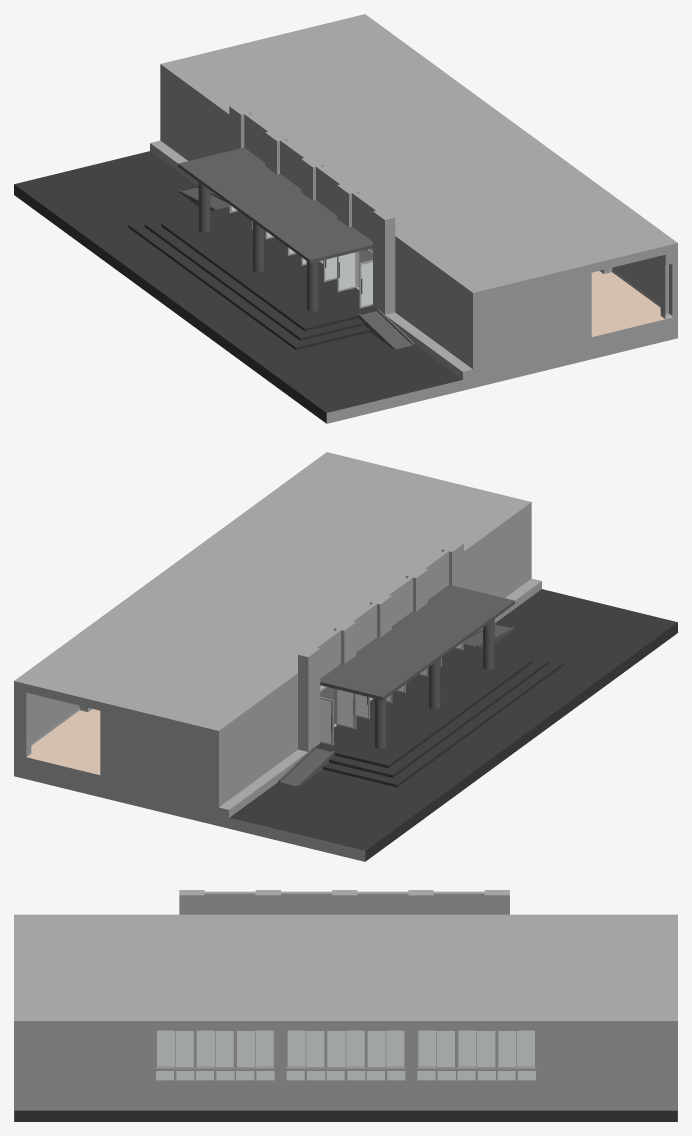
The picture shows the model from 3 angles, top to bottom: view 1: azimuth 30°, elevation 25°; view 2: azimuth 150°, elevation 25°; view 3: azimuth 270°, elevation 25°; orthographic projection. The views are drawn at different scales.
Parts seen in each view (by area): view 1: entrance_558, entrance_490, entrance_552, entrance_492, entrance_523, entrance_556, entrance_554, entrance_6, entrance_548, entrance_526, entrance_521, entrance_528 (+8 smaller); view 2: entrance_558, entrance_490, entrance_550, entrance_492, entrance_523, entrance_554, entrance_556, entrance_6, entrance_546, entrance_526, entrance_519, entrance_534 (+8 smaller); view 3: entrance_558, entrance_526, entrance_490, entrance_969, entrance_965, entrance_967, entrance_528, entrance_532, entrance_534, entrance_530, entrance_1050, entrance_1002 (+21 smaller).
Boxes of the visible parts, x1,y1,x2,y2 form: entrance_558: (160, 14, 677, 300); entrance_490: (14, 151, 462, 423); entrance_552: (326, 243, 677, 423); entrance_492: (128, 207, 376, 350); entrance_523: (178, 147, 372, 263); entrance_556: (385, 245, 472, 379); entrance_554: (150, 73, 229, 191); entrance_6: (591, 271, 672, 336); entrance_548: (373, 209, 395, 314); entrance_526: (602, 254, 672, 318); entrance_521: (358, 309, 414, 349); entrance_528: (352, 192, 379, 248); entrance_558: (14, 452, 531, 738); entrance_490: (229, 589, 677, 861); entrance_550: (14, 681, 365, 861); entrance_492: (316, 644, 564, 787); entrance_523: (320, 584, 514, 700); entrance_554: (219, 682, 307, 817); entrance_556: (464, 511, 541, 628); entrance_6: (27, 709, 100, 774); entrance_546: (298, 646, 320, 751); entrance_526: (26, 692, 89, 754); entrance_519: (278, 746, 334, 786); entrance_534: (313, 629, 340, 685); entrance_558: (14, 914, 677, 1029); entrance_526: (14, 1030, 677, 1110); entrance_490: (14, 1110, 677, 1121); entrance_969: (285, 1030, 406, 1081); entrance_965: (416, 1030, 536, 1081); entrance_967: (155, 1030, 275, 1081); entrance_528: (204, 891, 255, 914); entrance_532: (357, 891, 408, 914); entrance_534: (433, 891, 484, 914); entrance_530: (281, 891, 331, 914); entrance_1050: (346, 1030, 364, 1066); entrance_1002: (458, 1030, 476, 1066).
Size of the model in its own units: 17.06 by 5.27 by 26.32.
